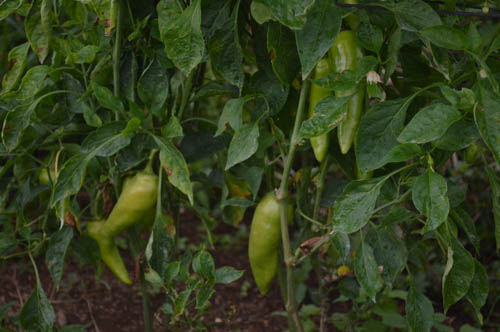ChiliPepper: (246, 196, 290, 292), (99, 175, 158, 235), (330, 37, 356, 152), (85, 222, 133, 284), (304, 62, 326, 157)
